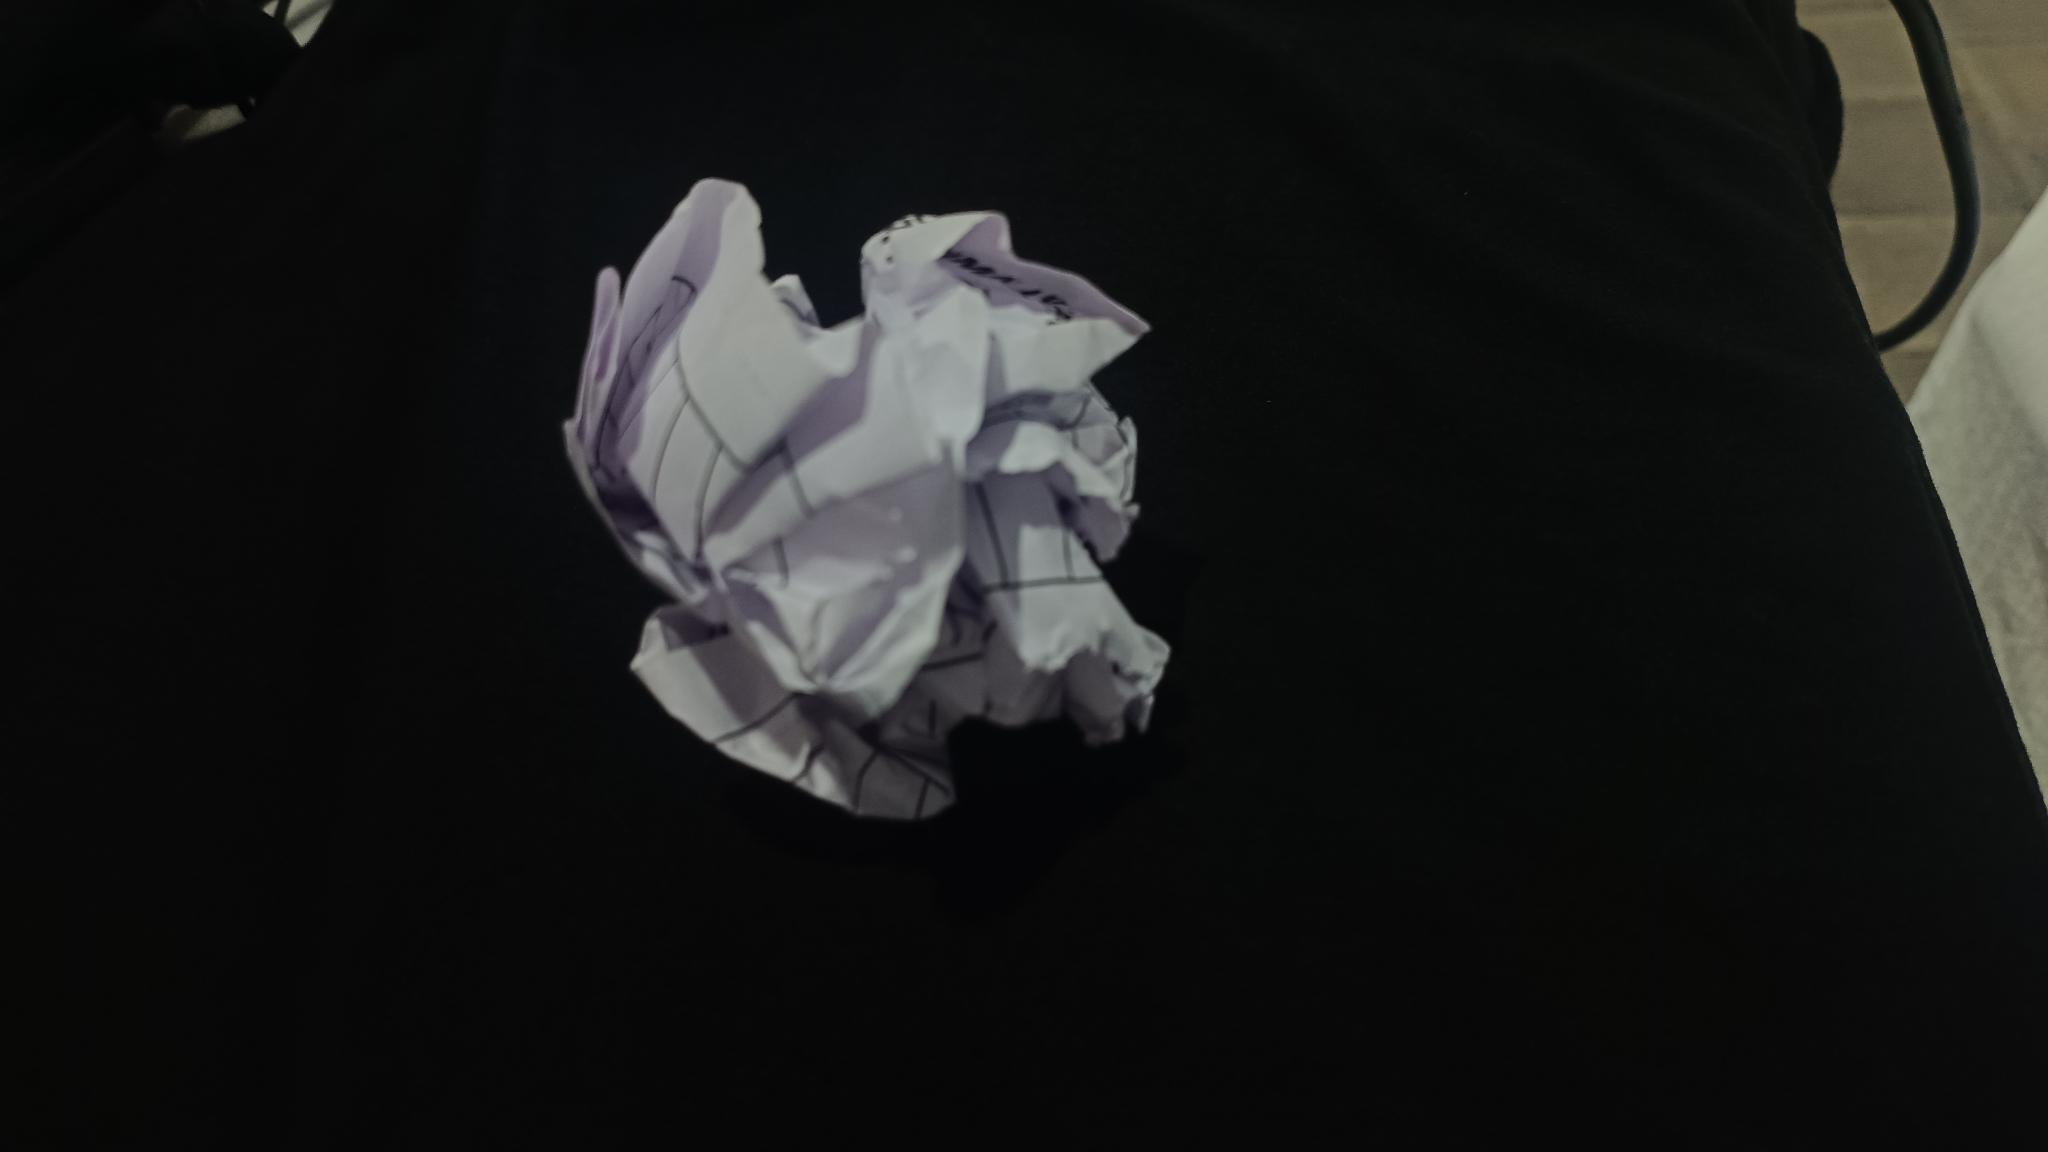PaperBall: (564, 180, 1166, 813)
